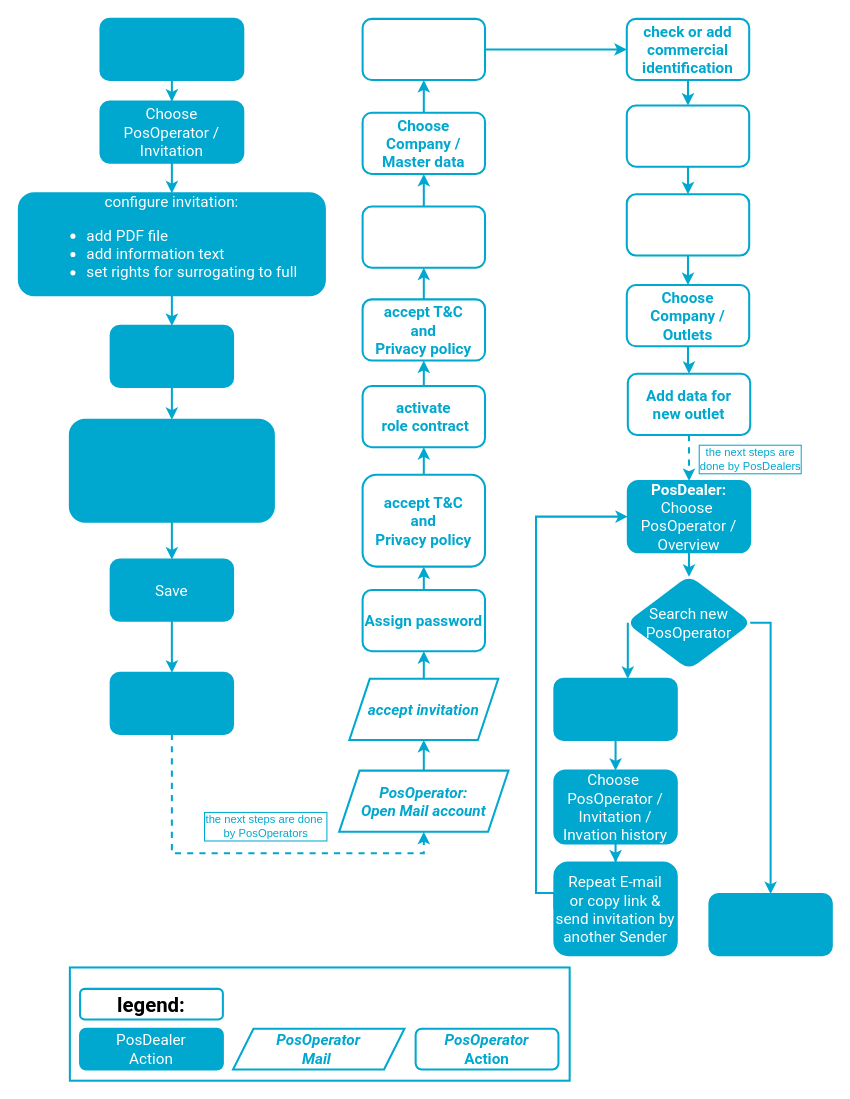
Some shapes in this 850 by 1099 pixel diagram are drawn without their labels. The box of each missing label's shape, as (x1, y1, x2, y2) in pixels:
active link = ready to surrogate: (708, 892, 832, 956)
add: company data Commercial no. User data: (68, 418, 274, 522)
check address: (361, 17, 486, 81)
Choose: Assign all PosOperators: (109, 671, 234, 734)
chose Add: (109, 324, 234, 388)
do not Assign further roles: (361, 205, 486, 268)
inactive link: (553, 677, 677, 741)
PosDealer: Open fiskaltrust.Portal: (99, 17, 244, 81)
save Master data: (625, 193, 750, 256)
validation of commercial identification: (625, 104, 750, 167)
